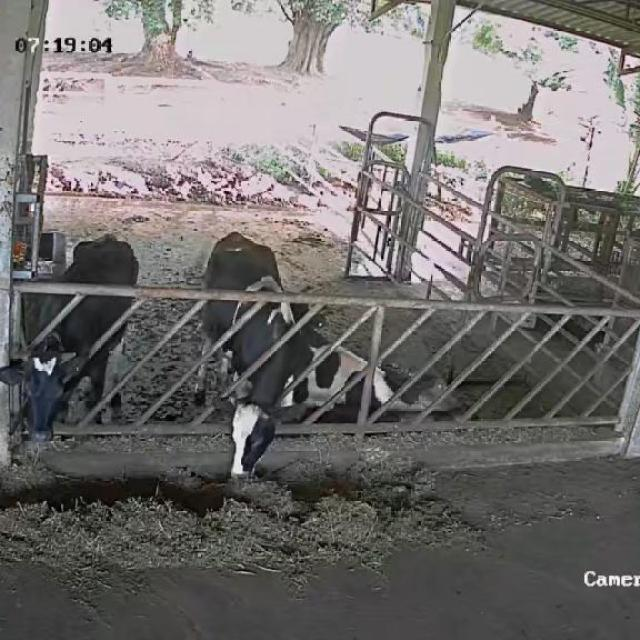feeding: (0, 237, 146, 460), (194, 232, 304, 497)
lying down: (292, 292, 456, 426)
